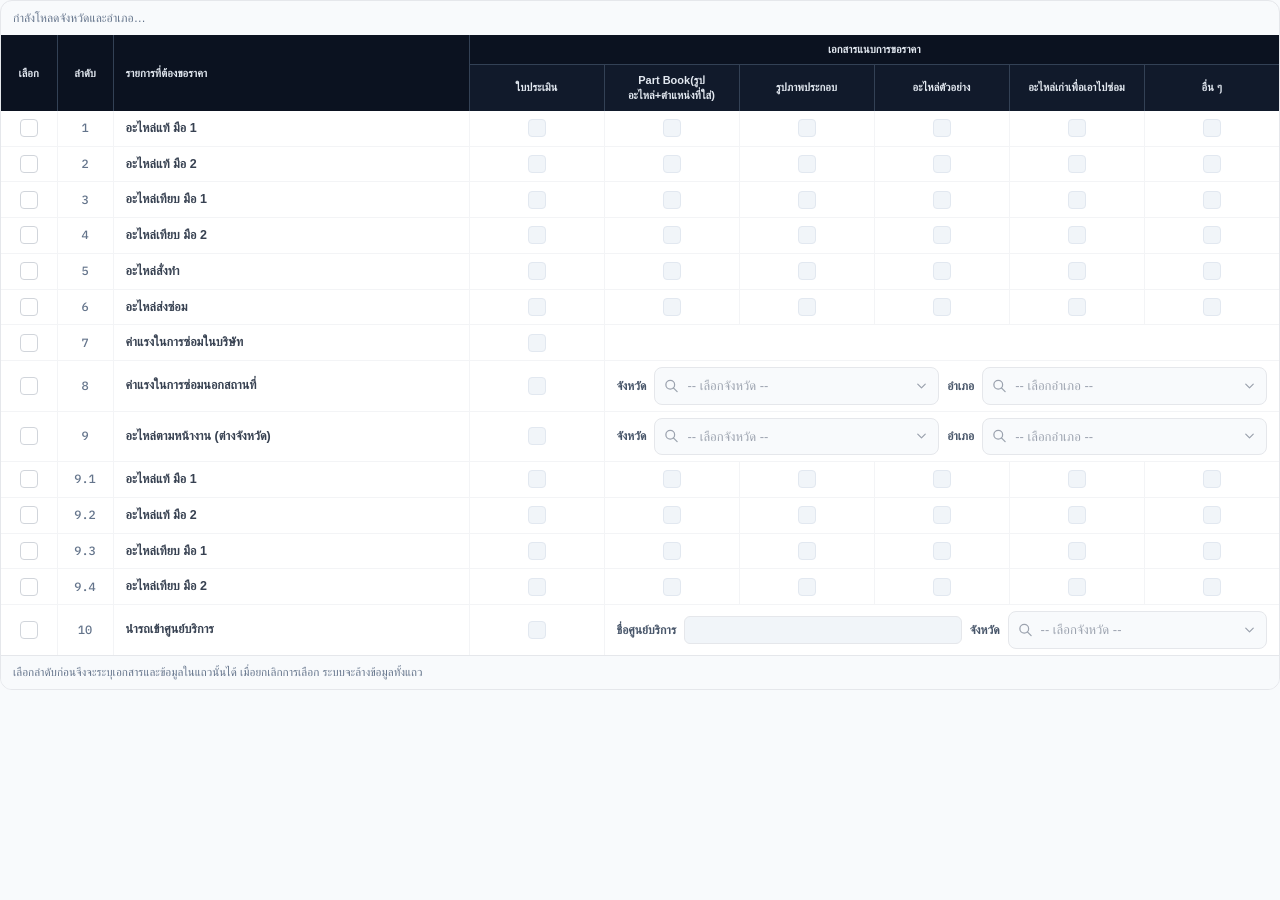
Test: ต้องเลือกลำดับก่อน และลำดับ 1 ใช้ default ที่กำหนด
The width and height of the screenshot is (1280, 900).
Expected: the button named "ใบประเมิน — ลำดับ 1 อะไหล่แท้ มือ 1" is disabled, [528,119,546,137]
Click the button named "เลือกลำดับ 1 อะไหล่แท้ มือ 1" at (29, 128), box [20,119,38,137]
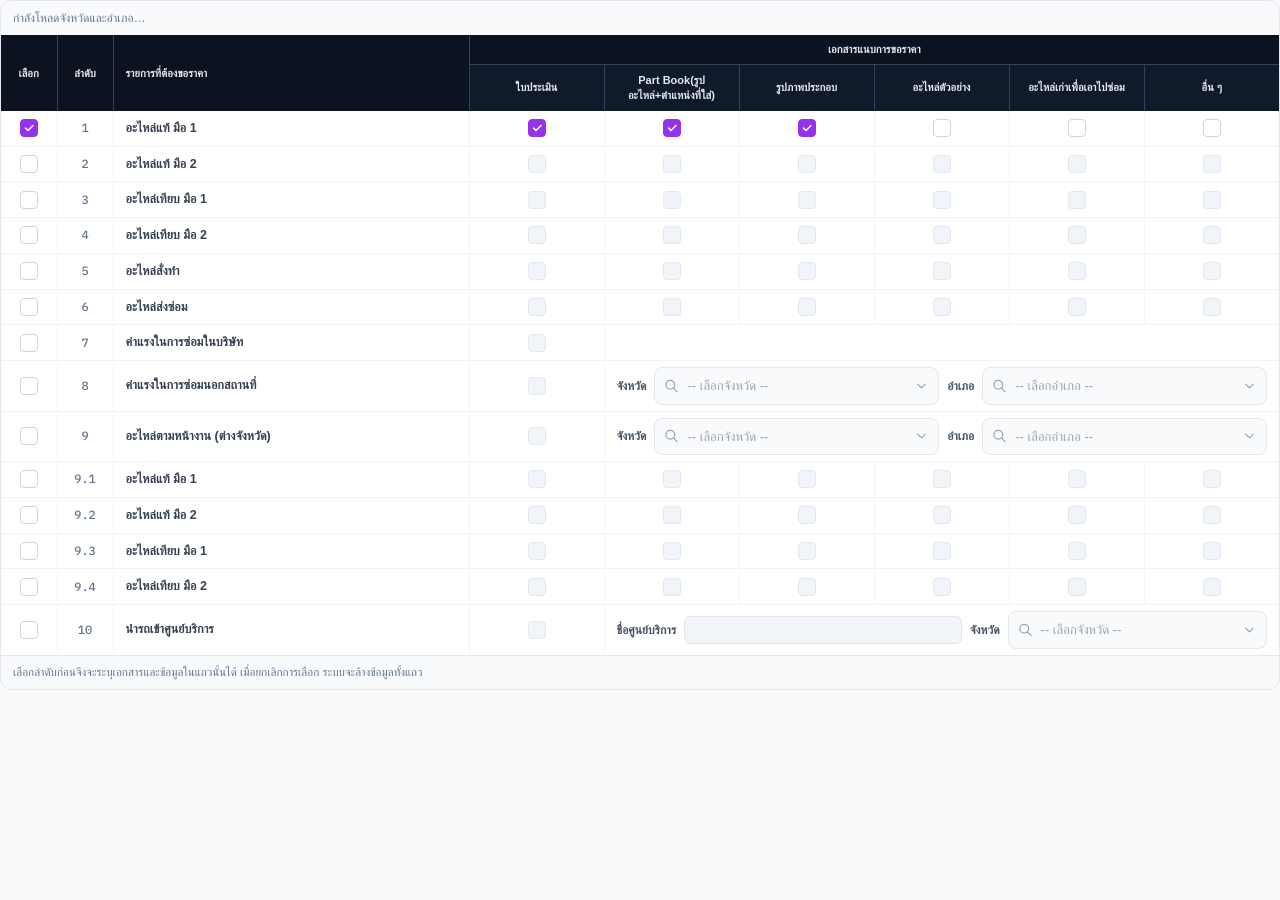
Expected: the button named "ใบประเมิน — ลำดับ 1 อะไหล่แท้ มือ 1" is enabled, [528,119,546,137]
